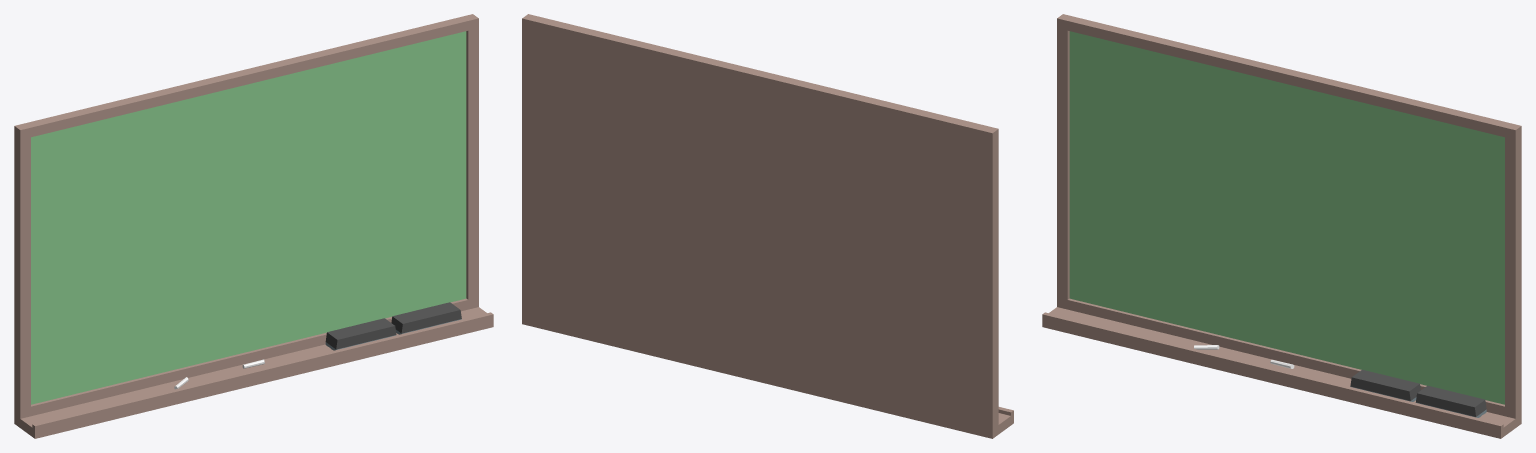
File: Blackboard.glb
3 views of the same model, side by side, from view 1: azimuth 30°, elevation 25°; view 2: azimuth 150°, elevation 25°; view 3: azimuth 330°, elevation 25° (orthographic). The views are drawn at different scales.
Visible parts, largest first — view 1: Blackboard_01_Cube.029, Blackboard_01.003_Cube.039, Blackboard_01.002_Cube.038; view 2: Blackboard_01_Cube.029; view 3: Blackboard_01_Cube.029, Blackboard_01.002_Cube.038, Blackboard_01.003_Cube.039.
Part boxes in pixels (box(x1,y1,x2,y2)): Blackboard_01_Cube.029: box(14, 14, 493, 438); Blackboard_01.003_Cube.039: box(325, 318, 396, 350); Blackboard_01.002_Cube.038: box(391, 302, 461, 334); Blackboard_01_Cube.029: box(522, 14, 1013, 438); Blackboard_01_Cube.029: box(1042, 14, 1521, 438); Blackboard_01.002_Cube.038: box(1415, 385, 1486, 417); Blackboard_01.003_Cube.039: box(1350, 369, 1420, 401).
Bounding box in the file's own units: 9.98 × 6.2 × 0.7805.
